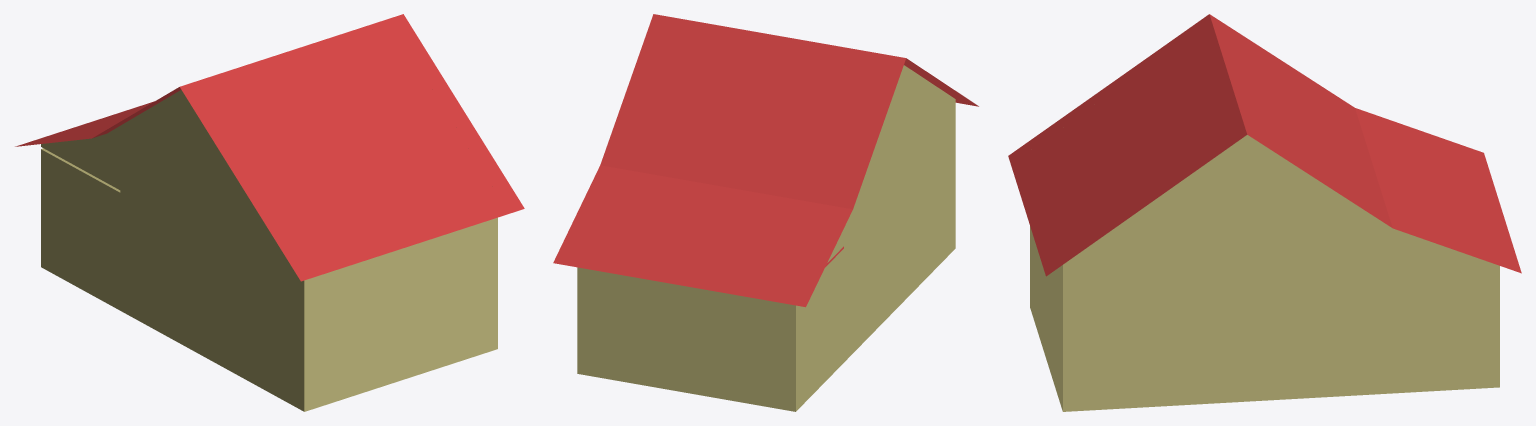
3 renders of one model, left to right at view 1: azimuth 30°, elevation 25°; view 2: azimuth 150°, elevation 25°; view 3: azimuth 270°, elevation 25°, orthographic. The views are drawn at different scales.
Bounding box in the file's own units: 13.38 × 19.7 × 11.65.
